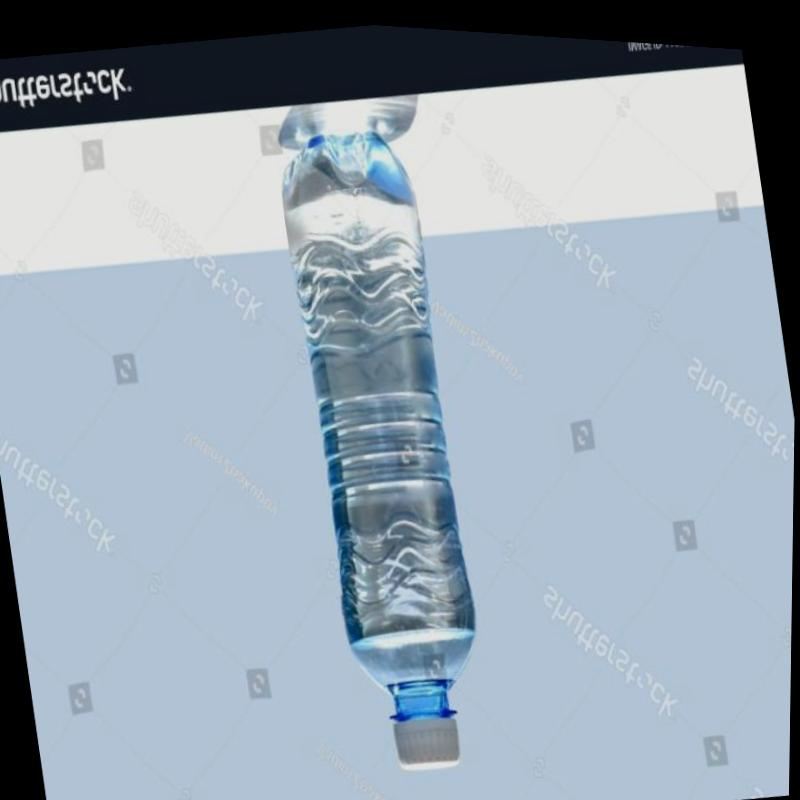botella: (269, 114, 504, 776)
